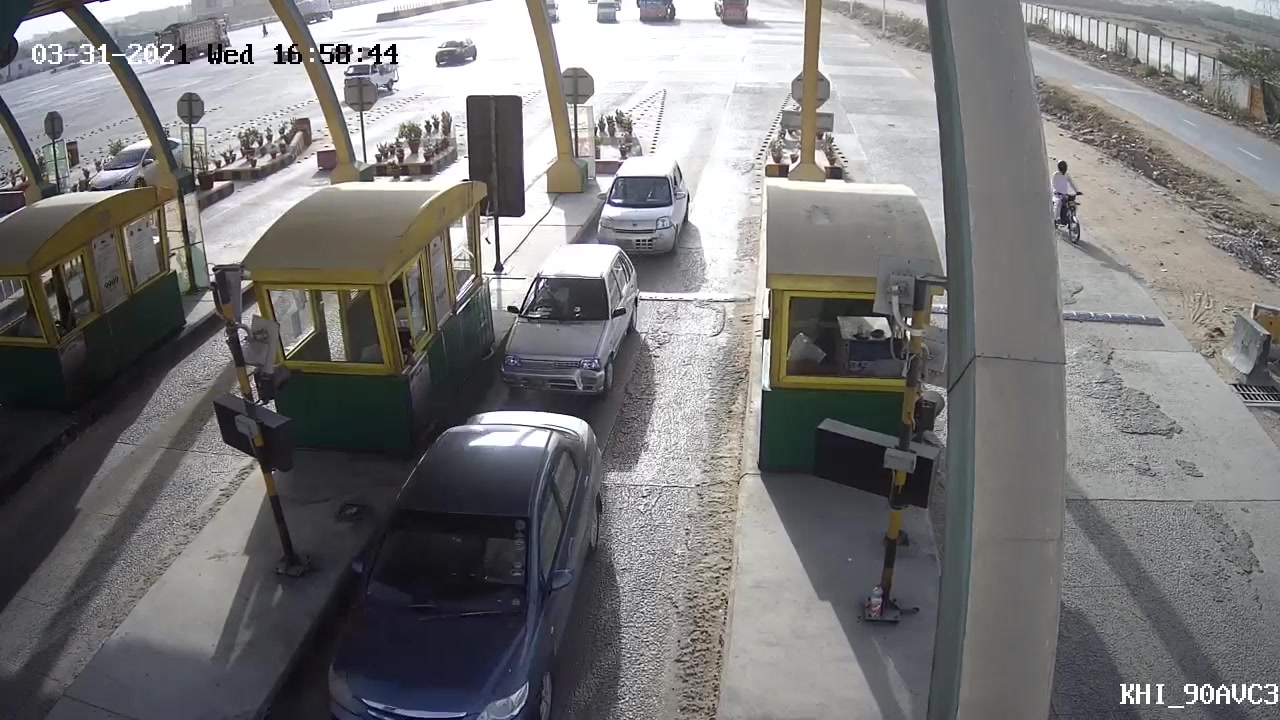F1: (489, 243, 638, 408)
